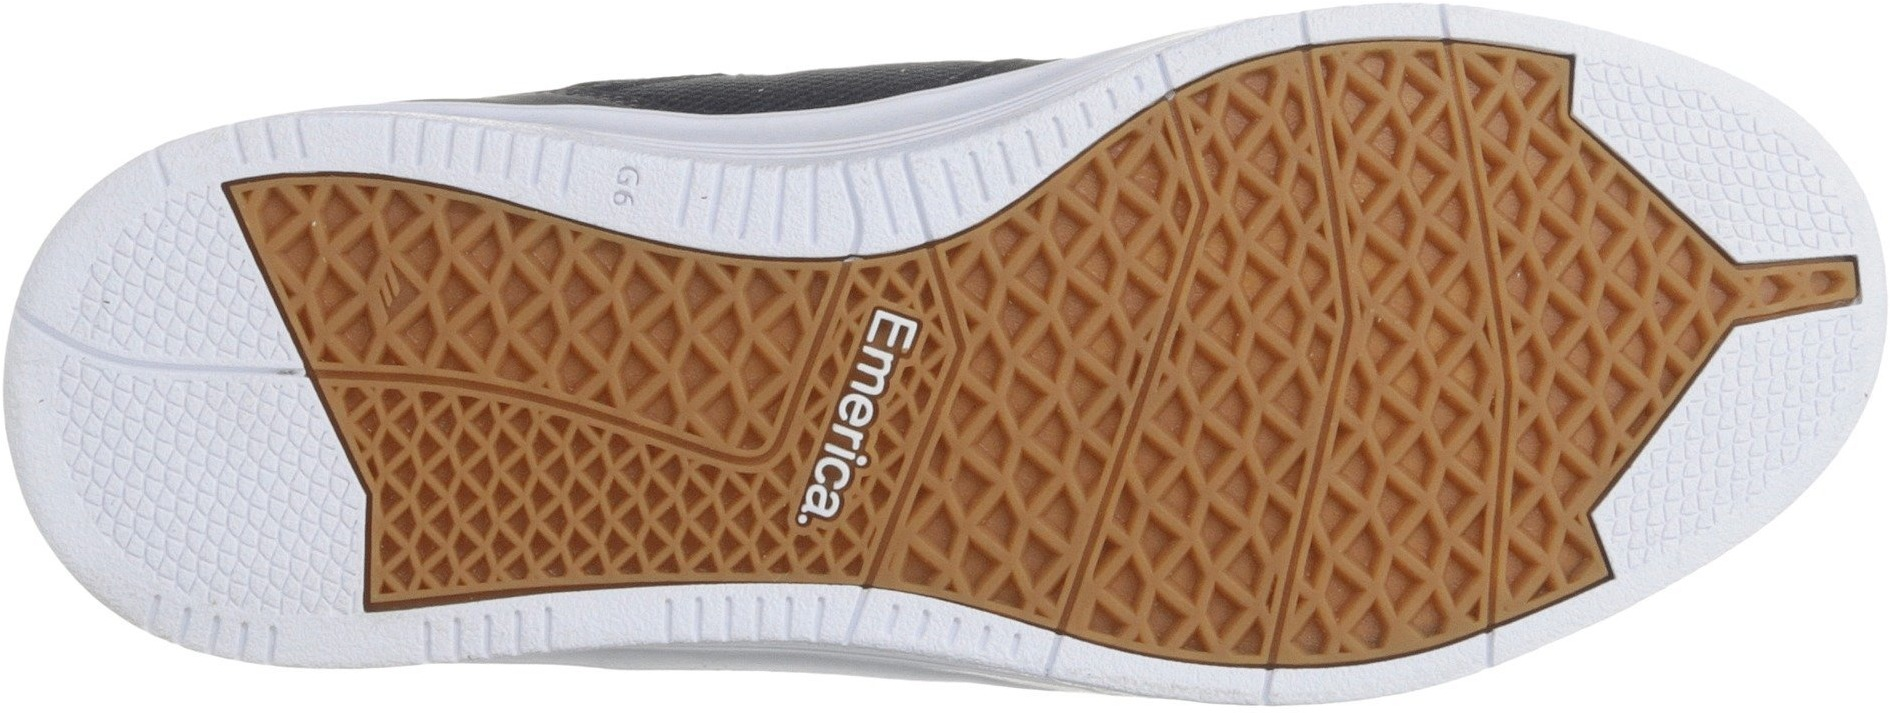chevron: (1252, 235, 1606, 501), (1141, 104, 1427, 391)
circle: (765, 426, 875, 561)
polygon: (1736, 243, 1854, 342)
quad: (1252, 235, 1606, 501), (1141, 104, 1427, 391), (438, 238, 620, 401), (824, 305, 938, 442), (765, 426, 875, 561), (1736, 243, 1854, 342)
text: (824, 305, 938, 442), (765, 426, 875, 561), (597, 157, 661, 231)
